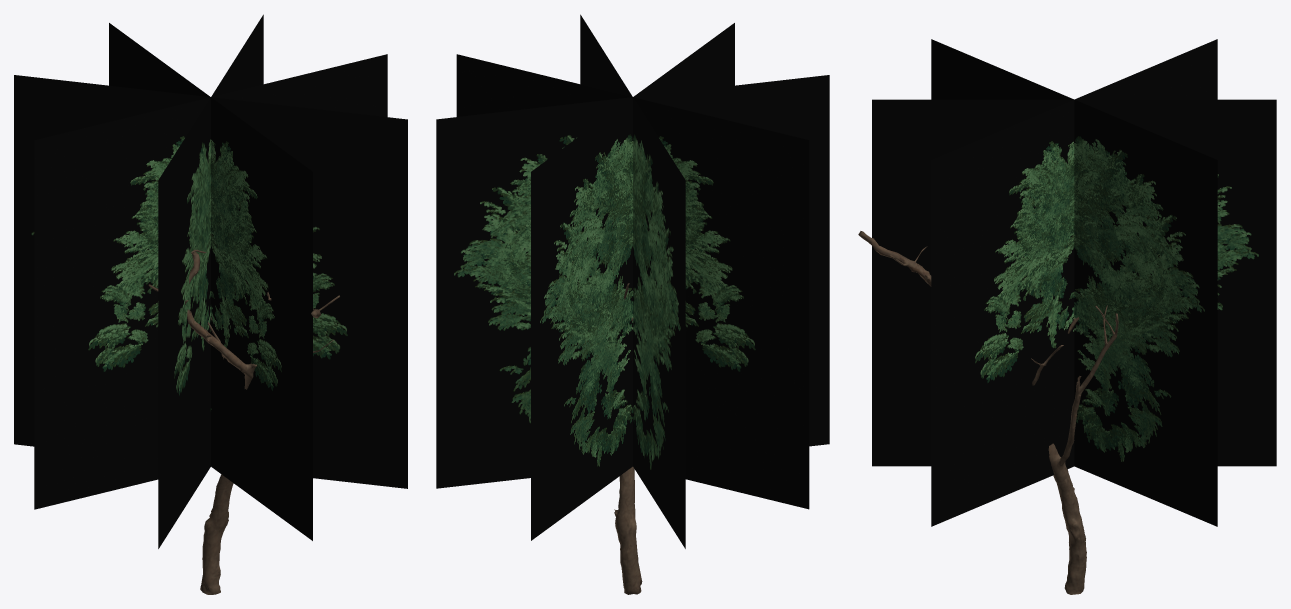
Rendered from field_broadleaf_a_lod0.glb.
3 views of the same model, side by side, from view 1: azimuth 30°, elevation 25°; view 2: azimuth 150°, elevation 25°; view 3: azimuth 270°, elevation 25° (orthographic).
Parts seen in each view (by area): view 1: foliage_lod0, bark_lod0; view 2: foliage_lod0, bark_lod0; view 3: foliage_lod0, bark_lod0.
Boxes of the visible parts, x1,y1,x2,y2 form: foliage_lod0: (14,14,407,548); bark_lod0: (148,249,339,594); foliage_lod0: (436,14,829,548); bark_lod0: (614,283,642,594); foliage_lod0: (872,39,1276,526); bark_lod0: (858,231,1118,594).
Size of the model in its own units: 3.6 by 4.82 by 3.72.
2 materials, 2 textured.
